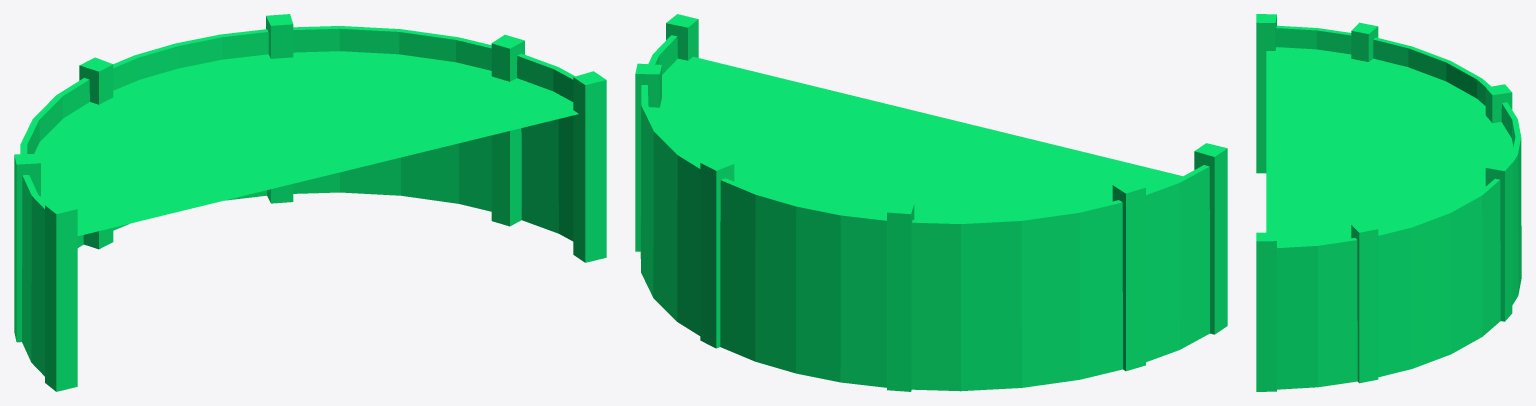
Rendered from StonePlatformChunkRound_Collision.FBX.
The picture shows the model from 3 angles, left to right: view 1: azimuth 30°, elevation 25°; view 2: azimuth 150°, elevation 25°; view 3: azimuth 270°, elevation 25°; orthographic projection. The views are drawn at different scales.
Visible parts, largest first — view 1: StonePlatform_Roudn_Collision; view 2: StonePlatform_Roudn_Collision; view 3: StonePlatform_Roudn_Collision.
Part boxes in pixels (bbox=[...]): StonePlatform_Roudn_Collision: bbox=[14, 14, 606, 391]; StonePlatform_Roudn_Collision: bbox=[635, 14, 1227, 391]; StonePlatform_Roudn_Collision: bbox=[1256, 14, 1521, 391].
Bounding box in the file's own units: 12.58 × 3.88 × 6.2.
